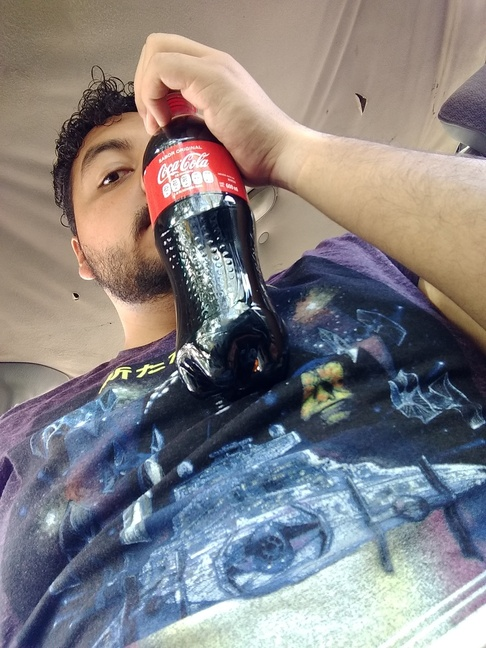Yoshi: (50, 68, 211, 311)
